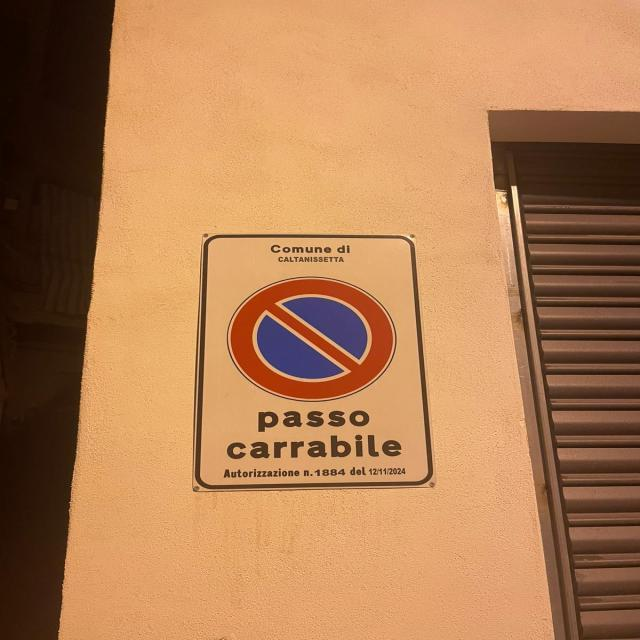forb_stopping: (224, 276, 398, 404)
